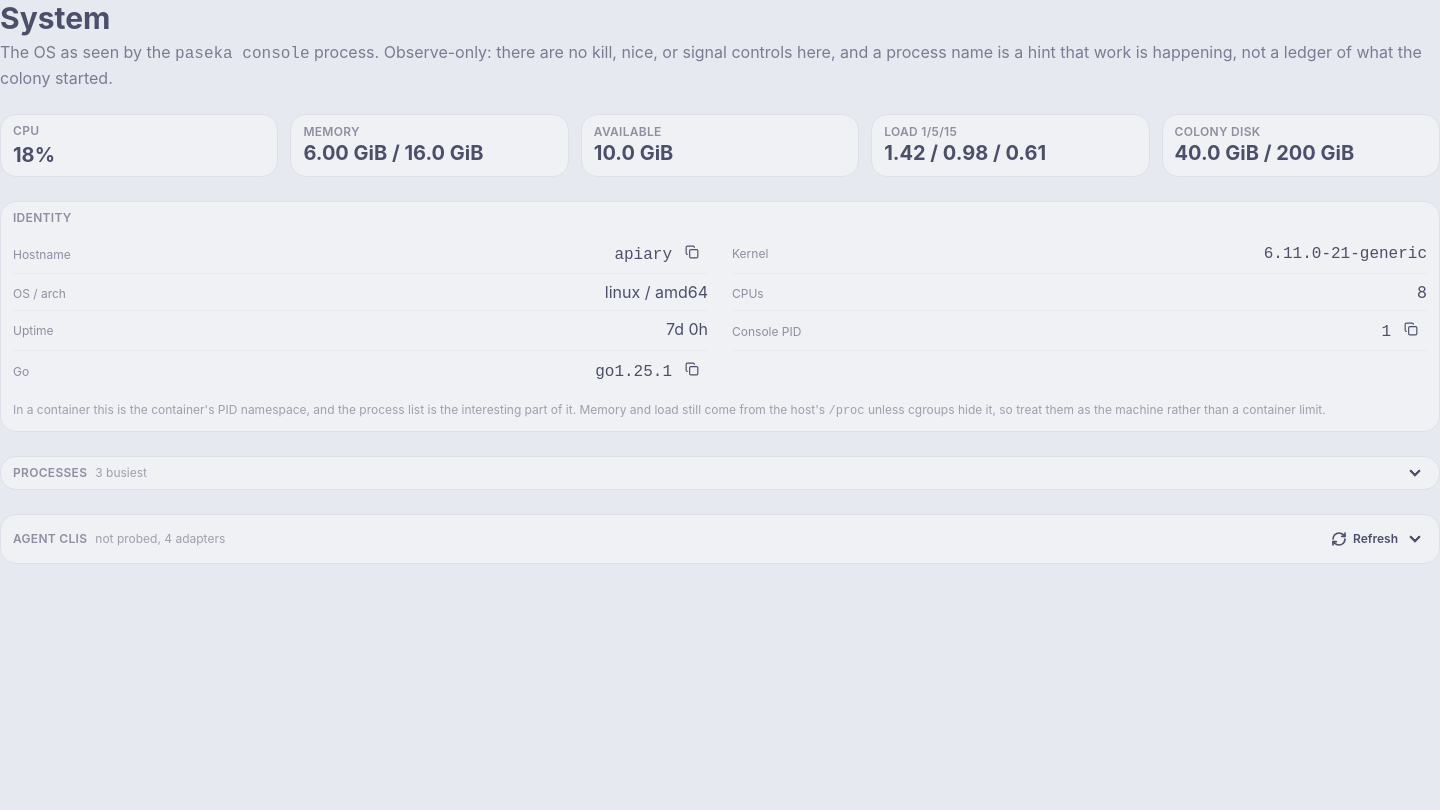
system route › filters the table on a name, a command, or a pid
Expected: the text "Memory" is shown, [303, 124, 360, 140]
Click the heading "Processes 3 busiest" at coordinates (80, 472), box [13, 465, 147, 480]
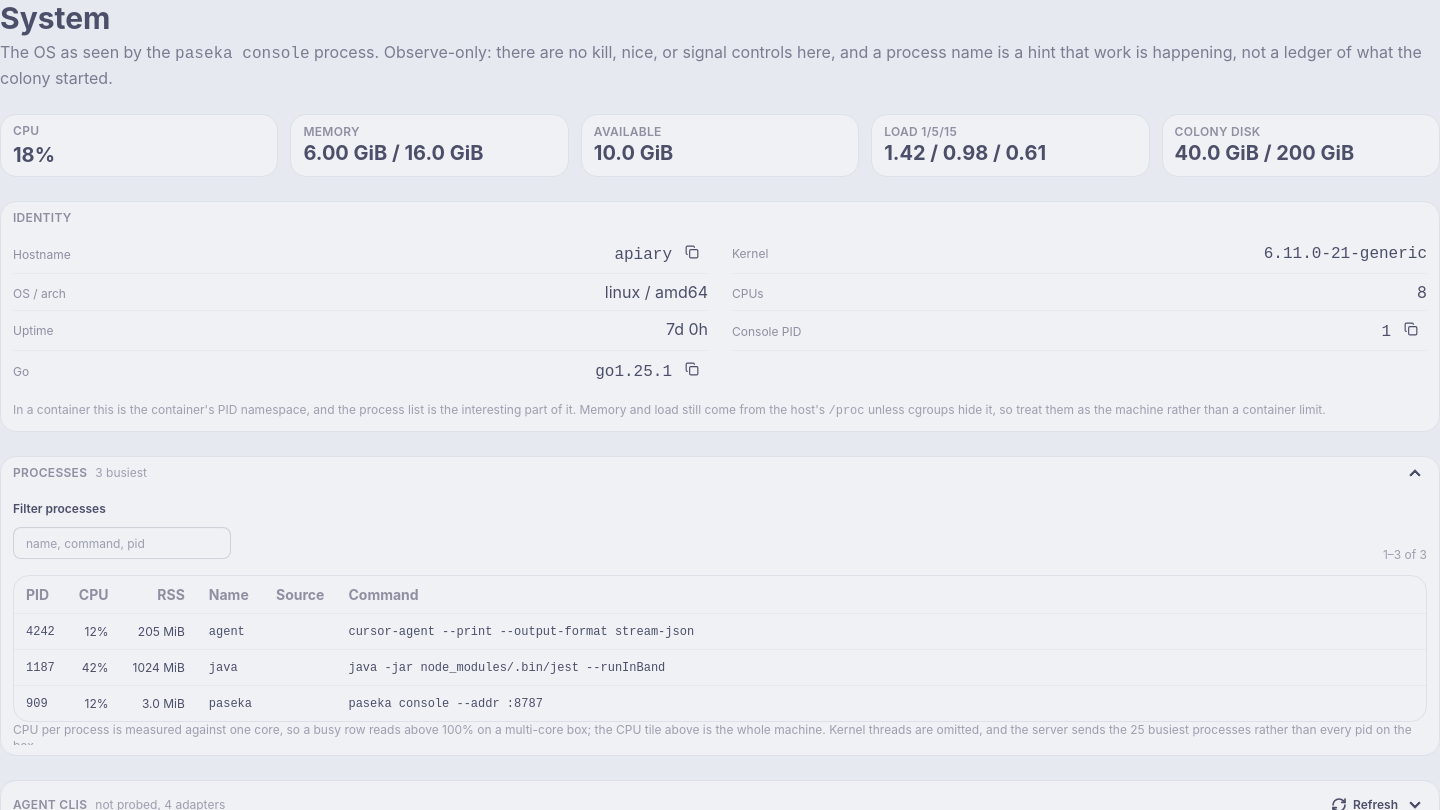
Type "java" into the search field labelled "Filter processes" at coordinates (122, 543), box [13, 527, 231, 559]
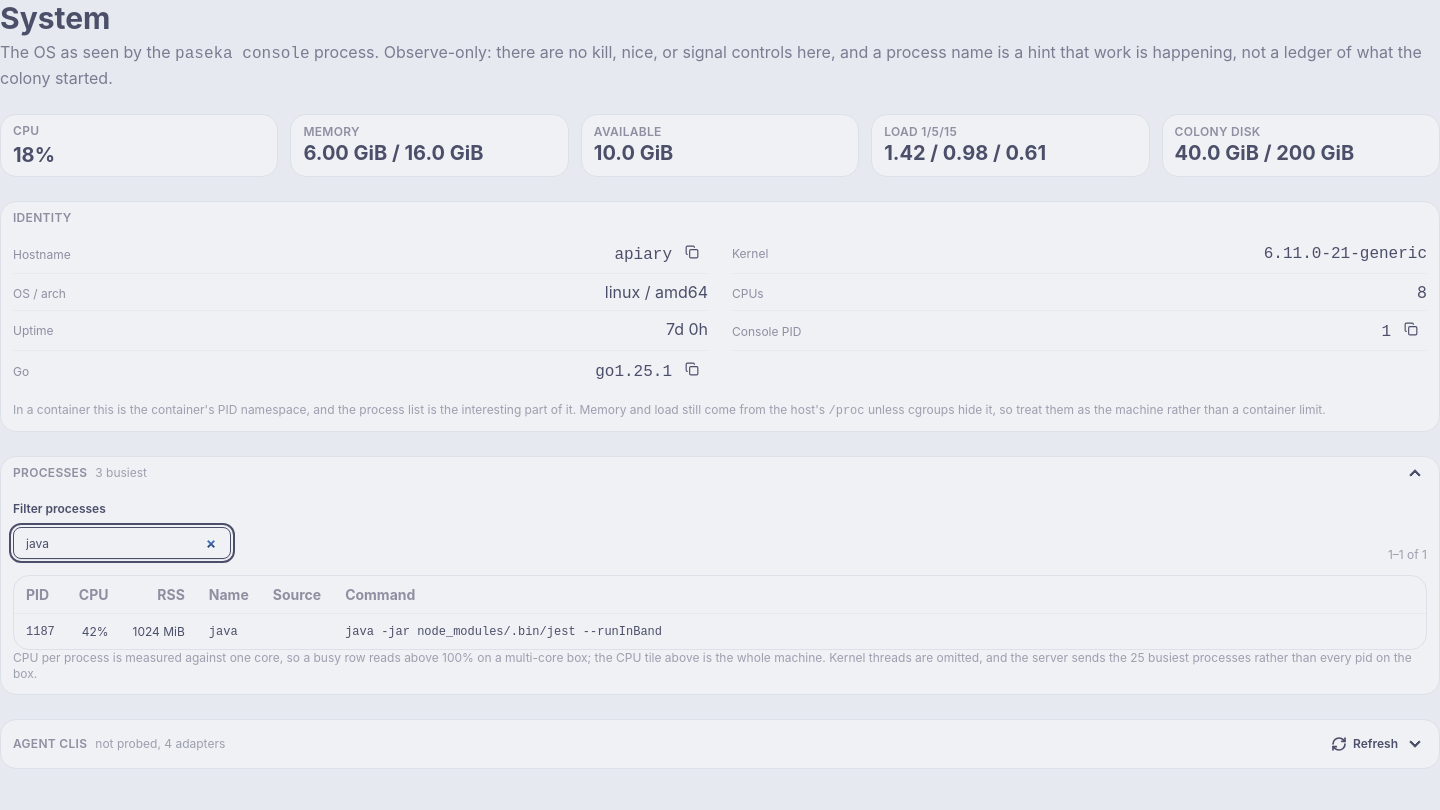
Result: the text "1187" is shown at [26, 625, 55, 639]
Result: the text "909" is gone
